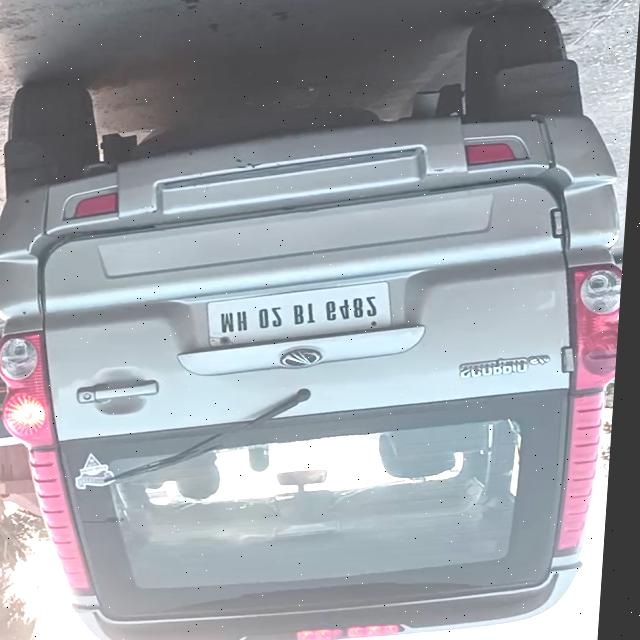plate: (211, 273, 397, 344)
